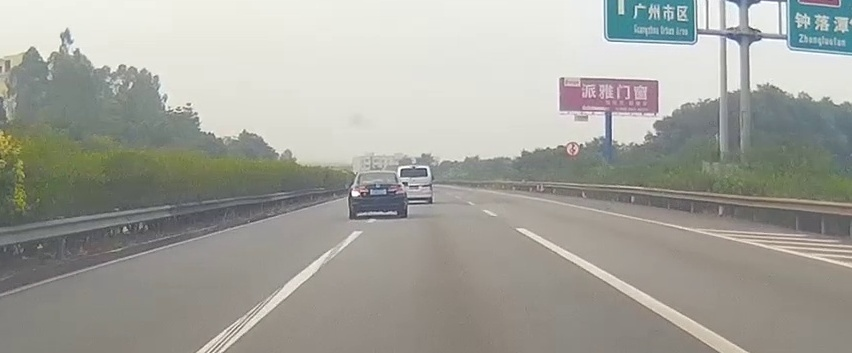L_light: (351, 187, 368, 197)
R_light: (388, 185, 404, 195)
T_light: (374, 171, 382, 174)
day-left: (348, 170, 408, 218)
